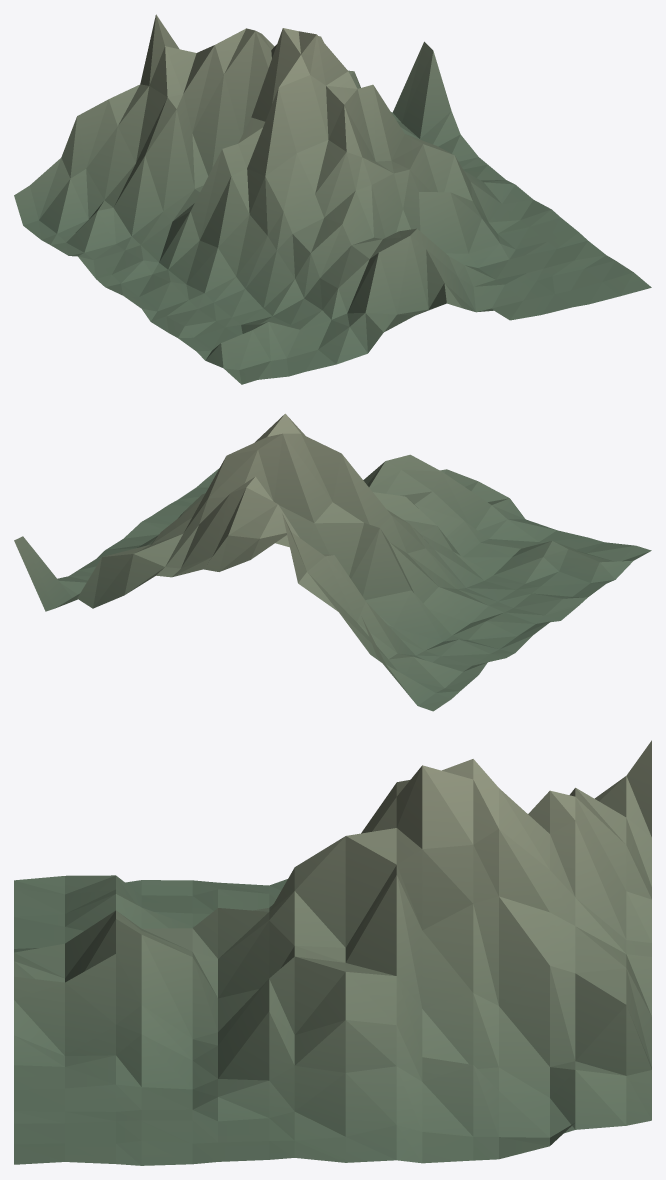
File: tile_0_2.glb
3 renders of one model, top to bottom at view 1: azimuth 30°, elevation 25°; view 2: azimuth 150°, elevation 25°; view 3: azimuth 270°, elevation 25°, orthographic. The views are drawn at different scales.
Parts seen in each view (by area): view 1: geometry_0; view 2: geometry_0; view 3: geometry_0.
Part boxes in pixels (x1,y1,x2,y2): geometry_0: (14,14,651,384); geometry_0: (14,413,651,711); geometry_0: (14,740,651,1165).
Size of the model in its own units: 127 by 57.66 by 123.
